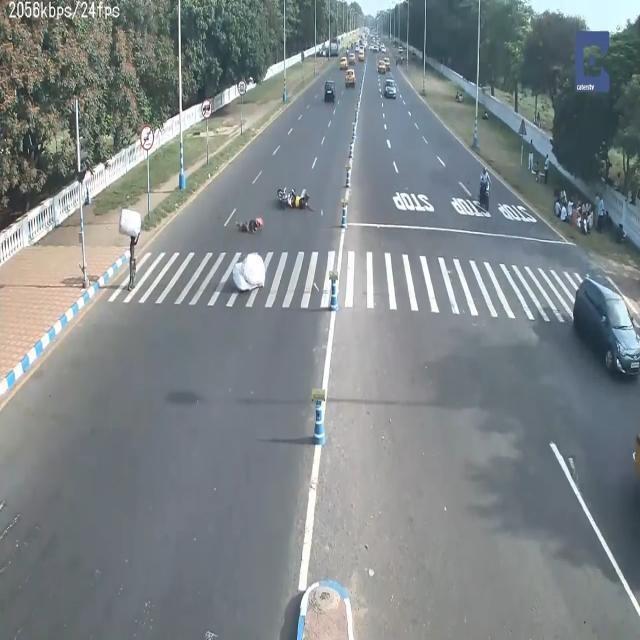accident: (230, 197, 271, 242), (274, 180, 310, 216)
